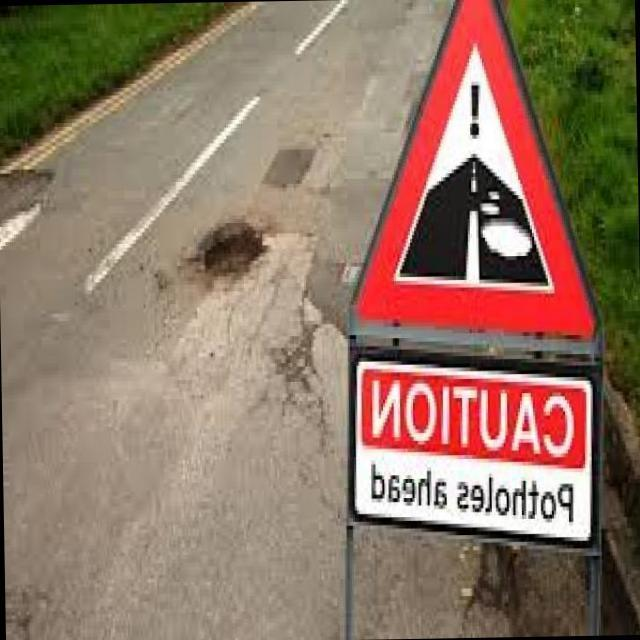Pothole: (194, 220, 266, 278)
